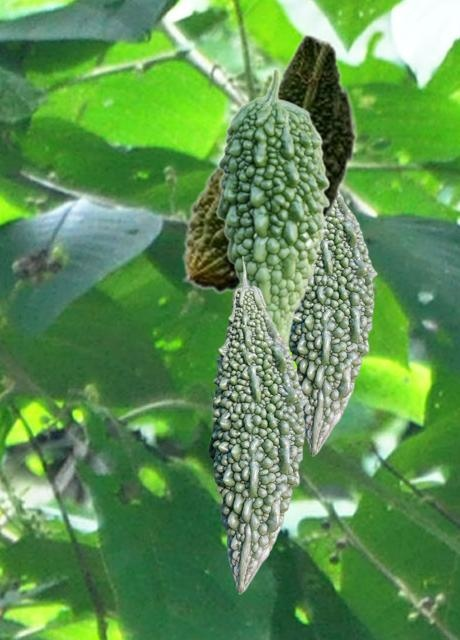ampalaya: (182, 33, 357, 293), (208, 256, 307, 593), (215, 67, 329, 344), (289, 193, 376, 455)
